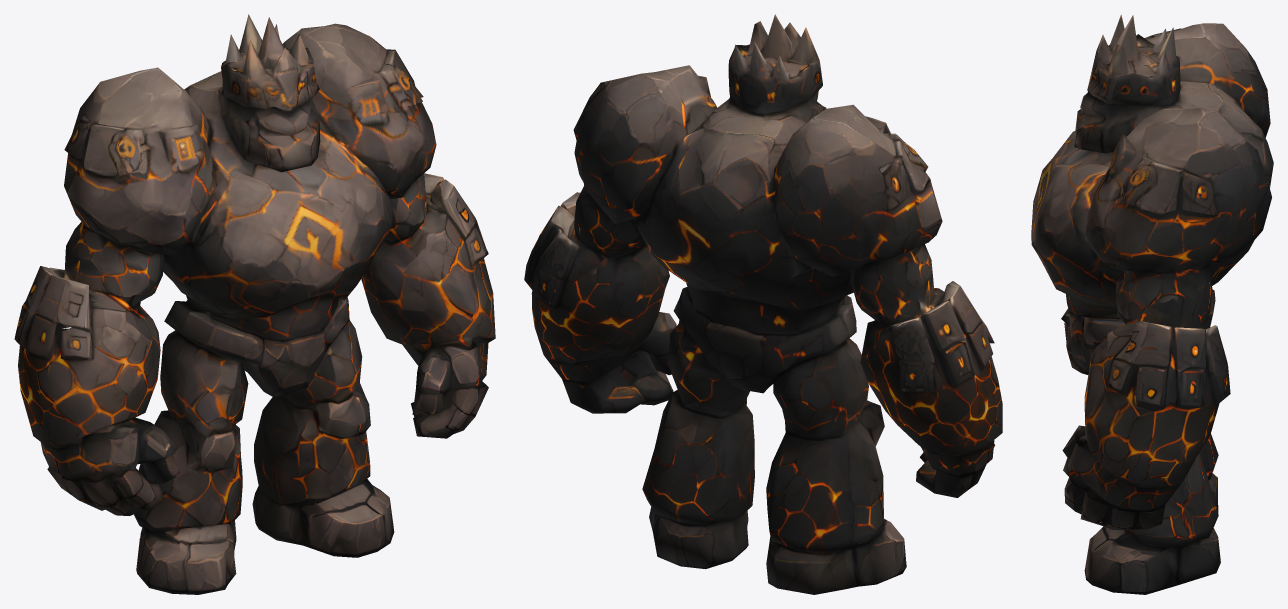
The model's file is golem_lava_front.glb.
3 renders of one model, left to right at view 1: azimuth 30°, elevation 25°; view 2: azimuth 150°, elevation 25°; view 3: azimuth 270°, elevation 25°, orthographic. The views are drawn at different scales.
Parts seen in each view (by area): view 1: tripo_node_409ce69c-73a7-4894-9a44-e8fdf4bf9ab1; view 2: tripo_node_409ce69c-73a7-4894-9a44-e8fdf4bf9ab1; view 3: tripo_node_409ce69c-73a7-4894-9a44-e8fdf4bf9ab1.
Part boxes in pixels (box(x1,y1,x2,y2)): tripo_node_409ce69c-73a7-4894-9a44-e8fdf4bf9ab1: box(14, 14, 495, 594); tripo_node_409ce69c-73a7-4894-9a44-e8fdf4bf9ab1: box(524, 14, 1002, 594); tripo_node_409ce69c-73a7-4894-9a44-e8fdf4bf9ab1: box(1031, 14, 1273, 594).
Bounding box in the file's own units: 0.8804 × 1.01 × 0.4194.
1 material, 1 textured.
